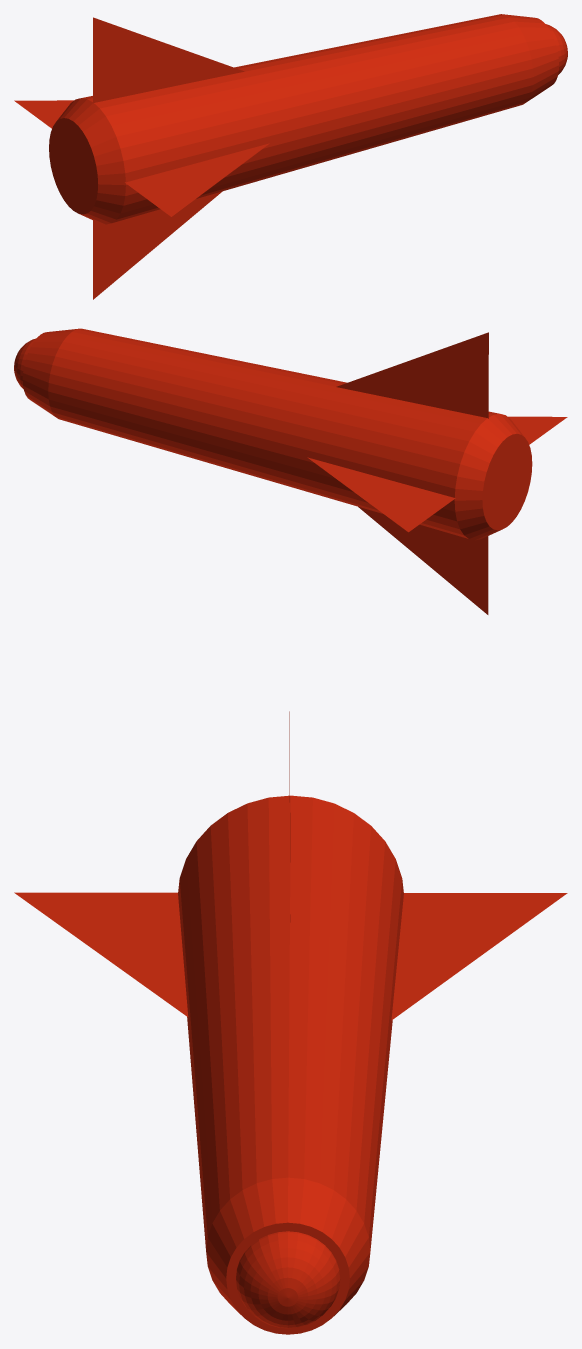
Rendered from missile.obj.
3 views of the same model, one above another, from view 1: azimuth 30°, elevation 25°; view 2: azimuth 150°, elevation 25°; view 3: azimuth 270°, elevation 25° (orthographic). The views are drawn at different scales.
Parts seen in each view (by area): view 1: Plane.002; view 2: Plane.002; view 3: Plane.002.
Part boxes in pixels (x1,y1,x2,y2): Plane.002: (14, 14, 567, 299); Plane.002: (14, 328, 567, 614); Plane.002: (14, 711, 567, 1334).
Bounding box in the file's own units: 1.6 × 0.8814 × 0.8944.
